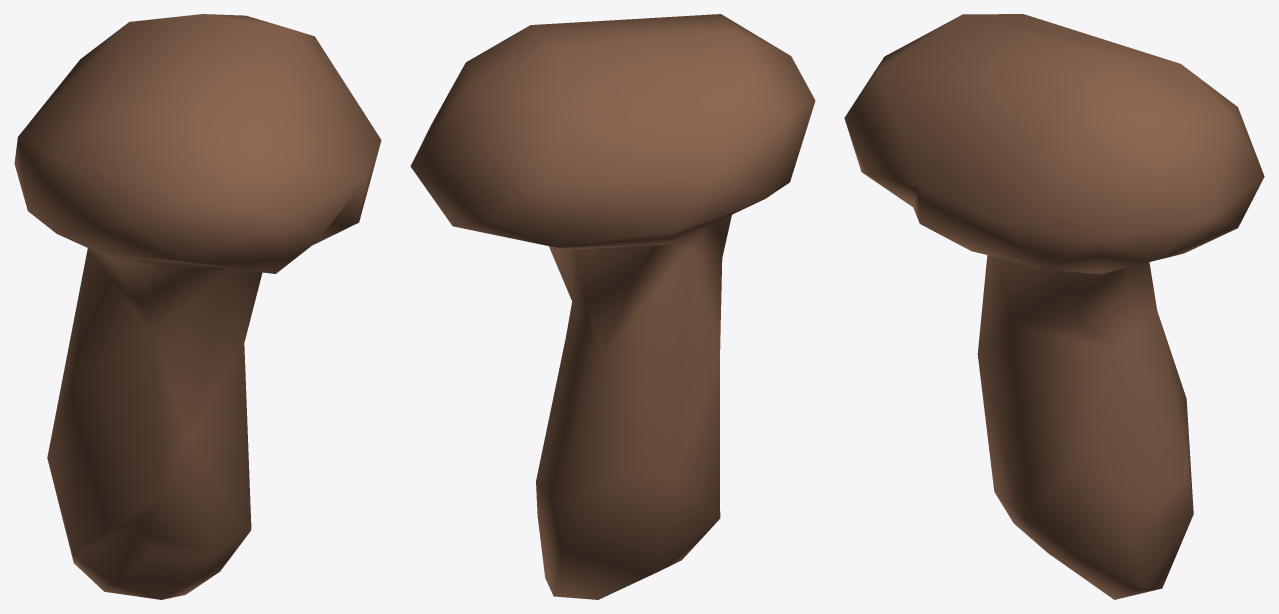
The model's file is Scatter_Mushroom_04_SM.fbx.
3 views of the same model, side by side, from view 1: azimuth 30°, elevation 25°; view 2: azimuth 150°, elevation 25°; view 3: azimuth 270°, elevation 25° (orthographic). The views are drawn at different scales.
Parts seen in each view (by area): view 1: Scatter_Mushroom_04_SM; view 2: Scatter_Mushroom_04_SM; view 3: Scatter_Mushroom_04_SM.
Part boxes in pixels (<box>): Scatter_Mushroom_04_SM: <box>14,14,381,599</box>; Scatter_Mushroom_04_SM: <box>410,14,815,599</box>; Scatter_Mushroom_04_SM: <box>844,14,1264,599</box>.
Bounding box in the file's own units: 1137 × 1835 × 1269.
